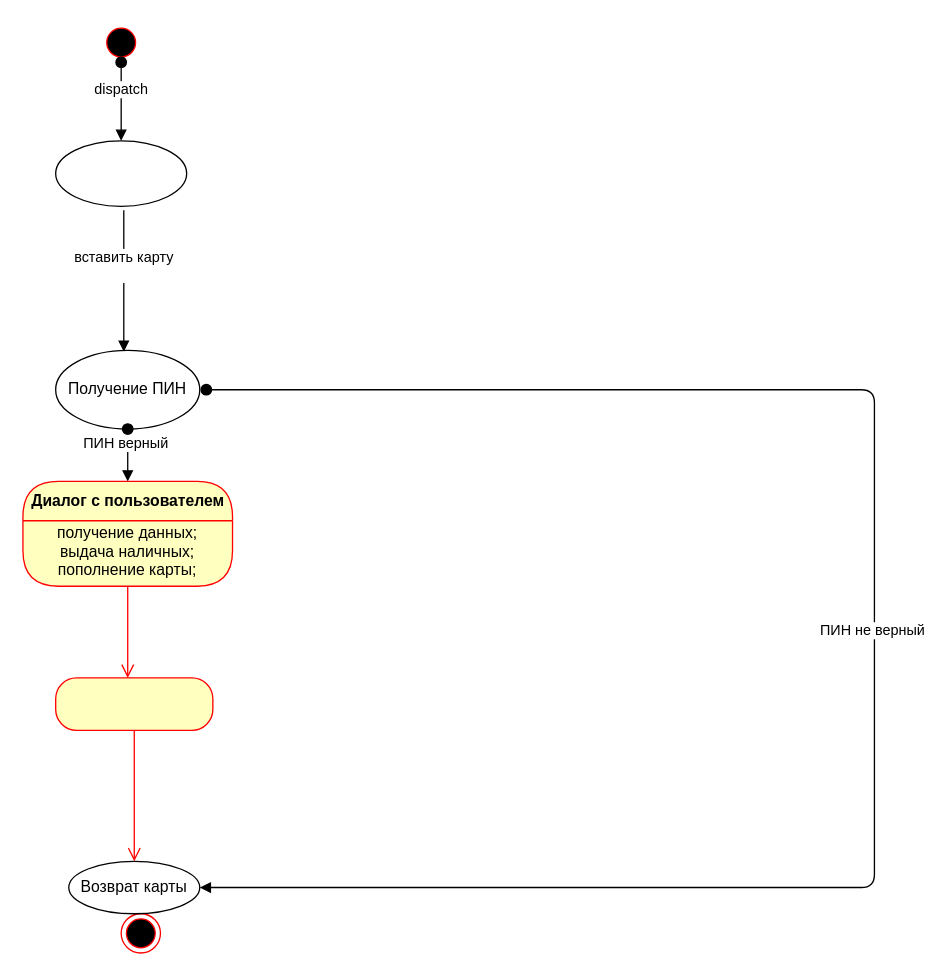
Some shapes in this 951 by 976 pixel diagram are drawn without their labels. The centre of each missing label's shape, as x and y in pixels:
Выполнение действий: pixel 133 703
Ожидание: pixel 120 173
